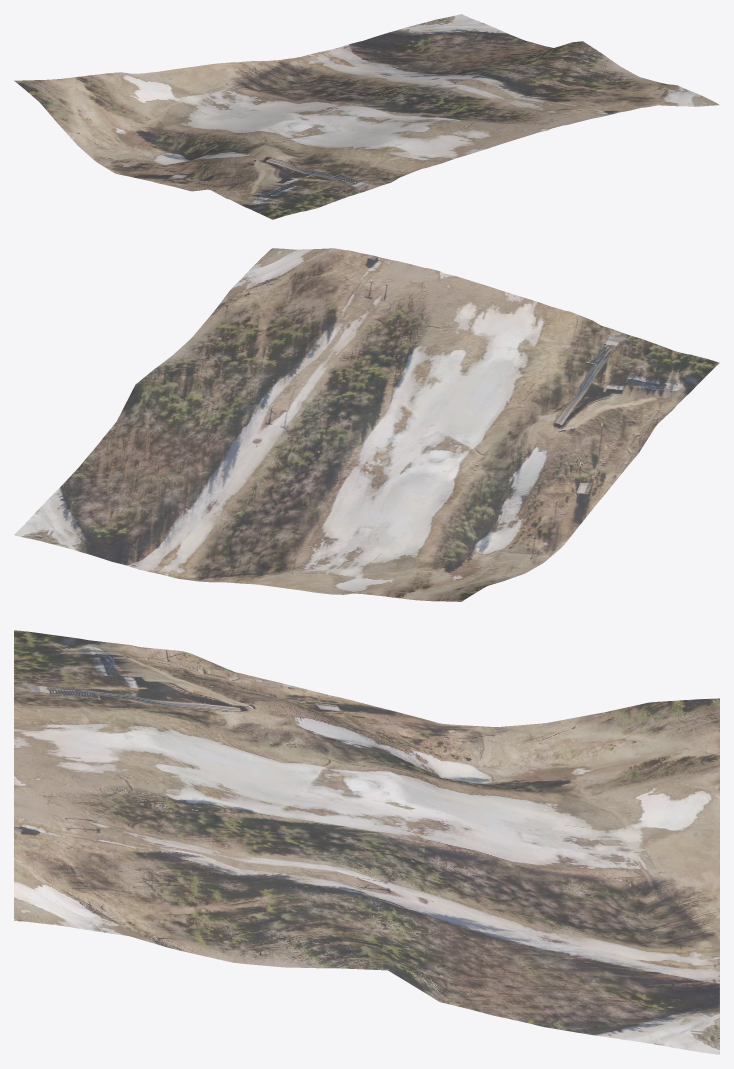
The model's file is CM_Terrain_24491892_6816722.fbx.
3 renders of one model, top to bottom at view 1: azimuth 30°, elevation 25°; view 2: azimuth 150°, elevation 25°; view 3: azimuth 270°, elevation 25°, orthographic. The views are drawn at different scales.
Visible parts, largest first — view 1: CM_Terrain_24491892_6816722_LOD0; view 2: CM_Terrain_24491892_6816722_LOD0; view 3: CM_Terrain_24491892_6816722_LOD0.
Boxes of the visible parts, x1,y1,x2,y2 form: CM_Terrain_24491892_6816722_LOD0: (14,14,719,219); CM_Terrain_24491892_6816722_LOD0: (14,248,719,601); CM_Terrain_24491892_6816722_LOD0: (14,630,719,1054).
Size of what is drawn, in the model's own units: 205 by 52.46 by 205.
